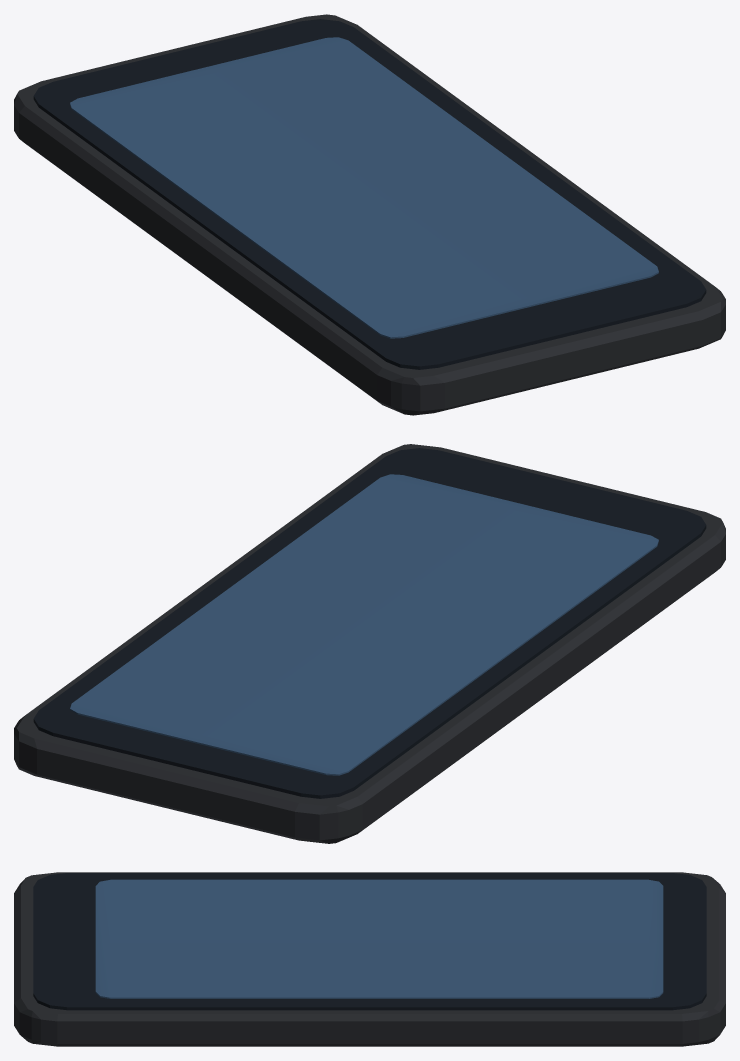
File: phone.glb
The picture shows the model from 3 angles, top to bottom: view 1: azimuth 30°, elevation 25°; view 2: azimuth 150°, elevation 25°; view 3: azimuth 270°, elevation 25°; orthographic projection. The views are drawn at different scales.
Parts seen in each view (by area): view 1: phone; view 2: phone; view 3: phone.
Part boxes in pixels (x1,y1,x2,y2): phone: (14,14,725,415); phone: (14,444,725,843); phone: (14,872,725,1046).
Size of the model in its own units: 0.072 by 0.0099 by 0.148.
